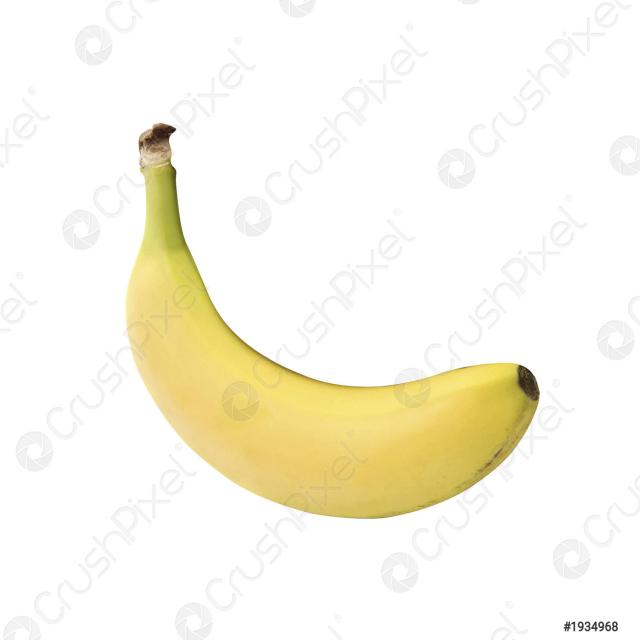non_orange: (123, 118, 540, 524)
